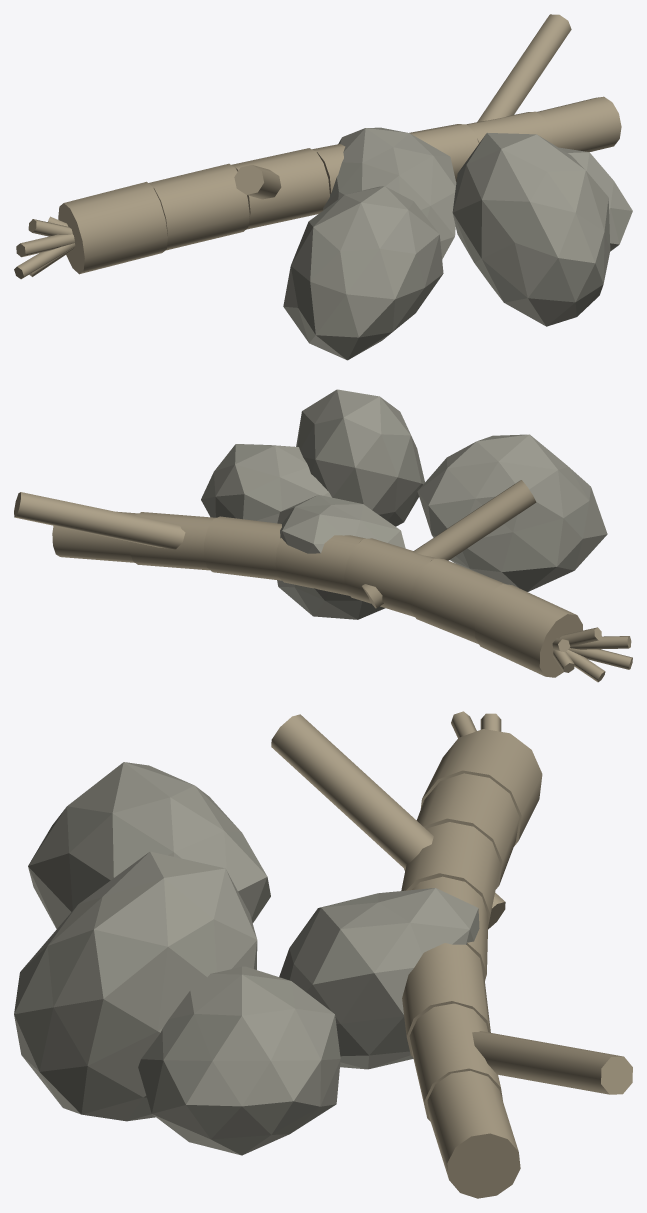
3 views of the same model, one above another, from view 1: azimuth 30°, elevation 25°; view 2: azimuth 150°, elevation 25°; view 3: azimuth 270°, elevation 25° (orthographic). The views are drawn at different scales.
Visible parts, largest first — view 1: Mesh_warm-granite, Mesh_bleached-wood; view 2: Mesh_warm-granite, Mesh_bleached-wood; view 3: Mesh_warm-granite, Mesh_bleached-wood.
Boxes of the visible parts, bbox=[...] form: Mesh_warm-granite: bbox=[283, 127, 632, 360]; Mesh_bleached-wood: bbox=[14, 14, 621, 279]; Mesh_warm-granite: bbox=[201, 389, 607, 619]; Mesh_bleached-wood: bbox=[14, 480, 632, 682]; Mesh_warm-granite: bbox=[14, 762, 479, 1155]; Mesh_bleached-wood: bbox=[271, 711, 632, 1198].
Size of the model in its own units: 3.41 by 0.9148 by 2.11.
